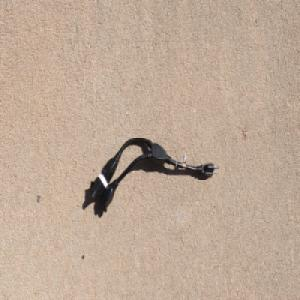Wire: (89, 135, 220, 213)
